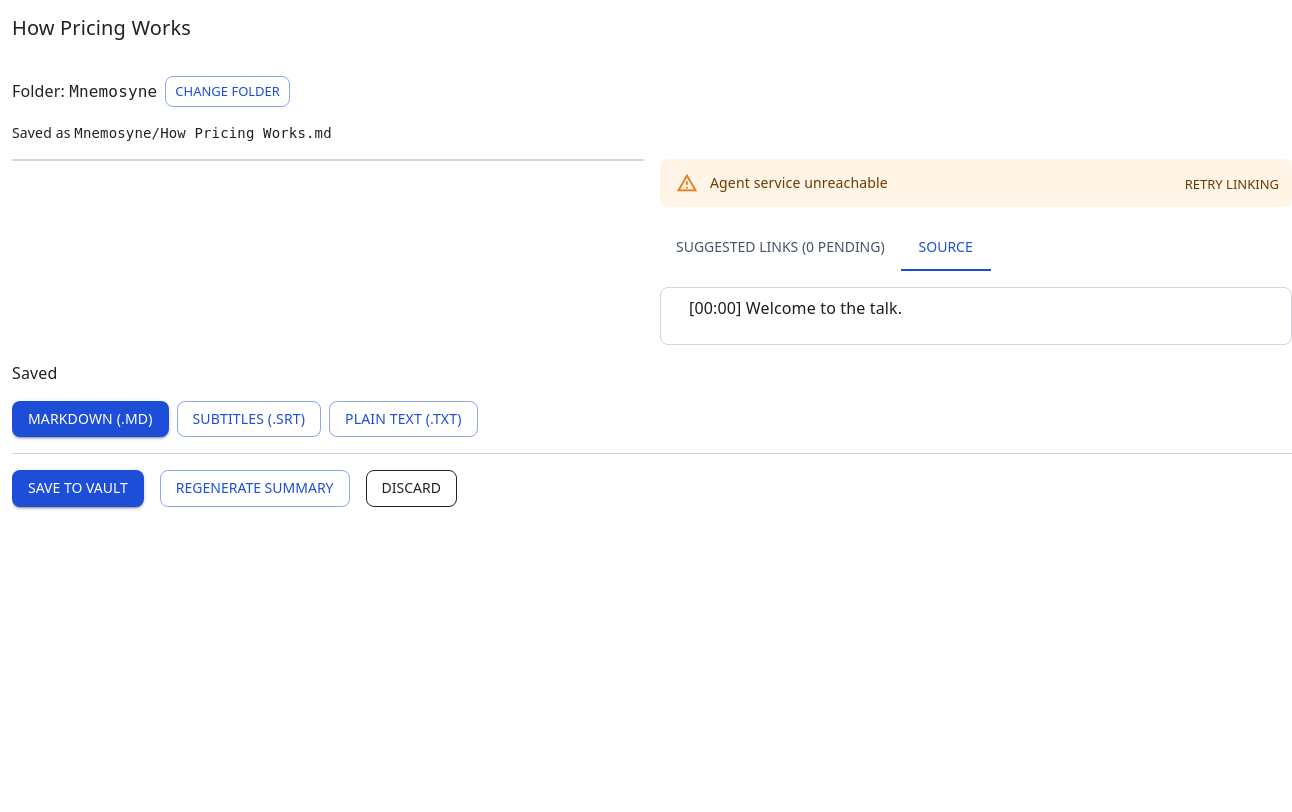
Test: ReviewScreen linking runs › shows the error when starting the run fails
This screenshot has width=1292, height=812.
Click the button "Retry linking": {"x": 1232, "y": 184} [1180,169,1284,200]
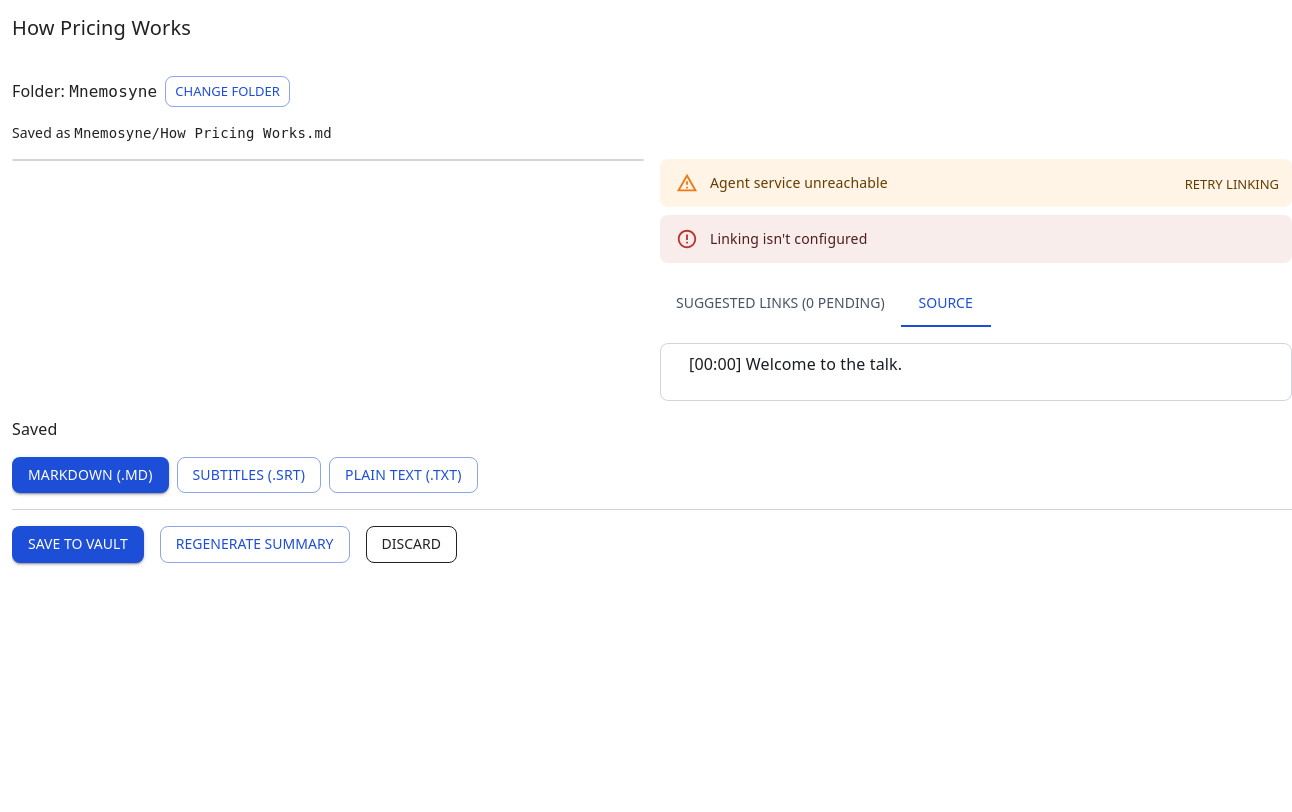
expect the text "Linking isn't configured" is shown: met, box [710,229,867,248]
